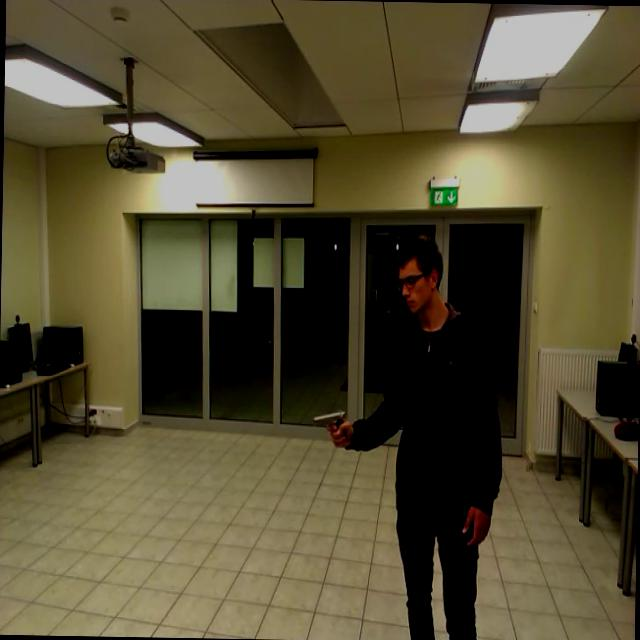handgun: (310, 395, 353, 445)
